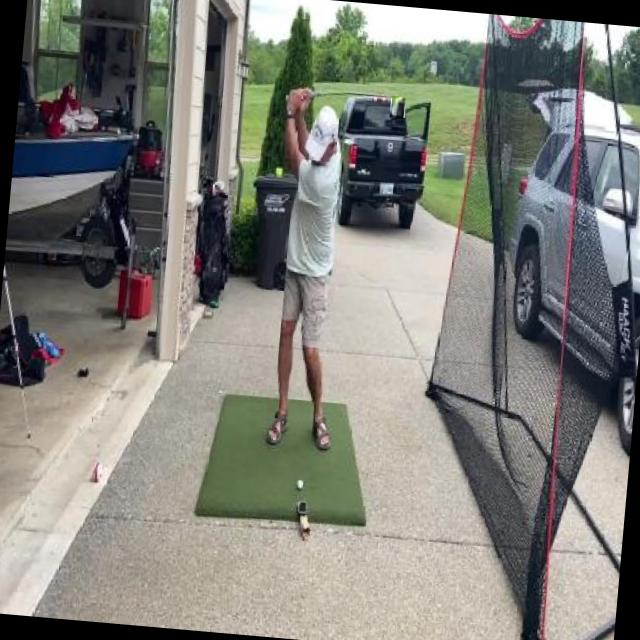club head: (389, 95, 406, 118)
